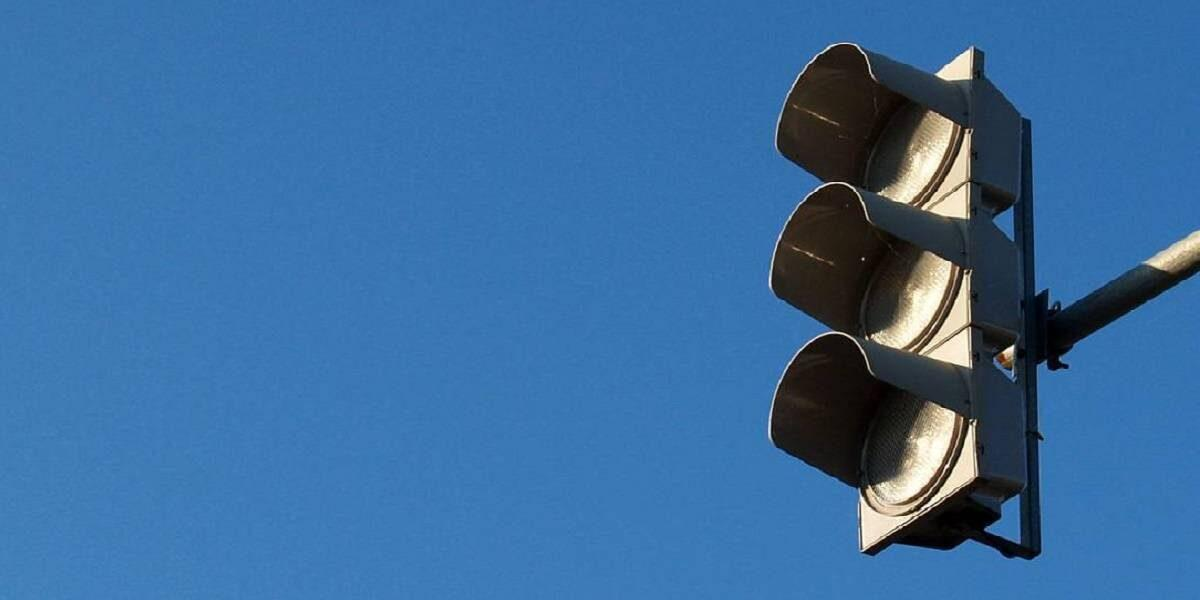off traffic light: (770, 43, 1047, 558)
